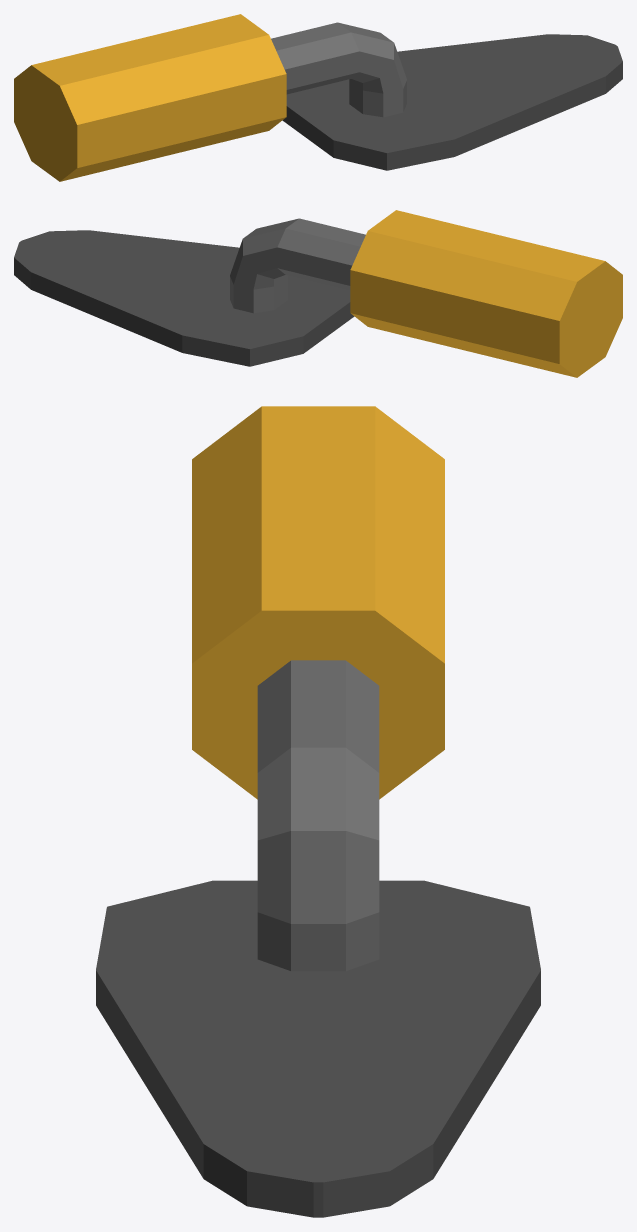
The picture shows the model from 3 angles, top to bottom: view 1: azimuth 30°, elevation 25°; view 2: azimuth 150°, elevation 25°; view 3: azimuth 270°, elevation 25°; orthographic projection. The views are drawn at different scales.
Visible parts, largest first — view 1: F-5; view 2: F-5; view 3: F-5.
Part boxes in pixels (x1=…): F-5: x1=14, y1=14, x2=622, y2=181; F-5: x1=14, y1=210, x2=622, y2=377; F-5: x1=96, y1=406, x2=540, y2=1217.
Size of the model in its own units: 68.17 by 14.49 by 23.01.
